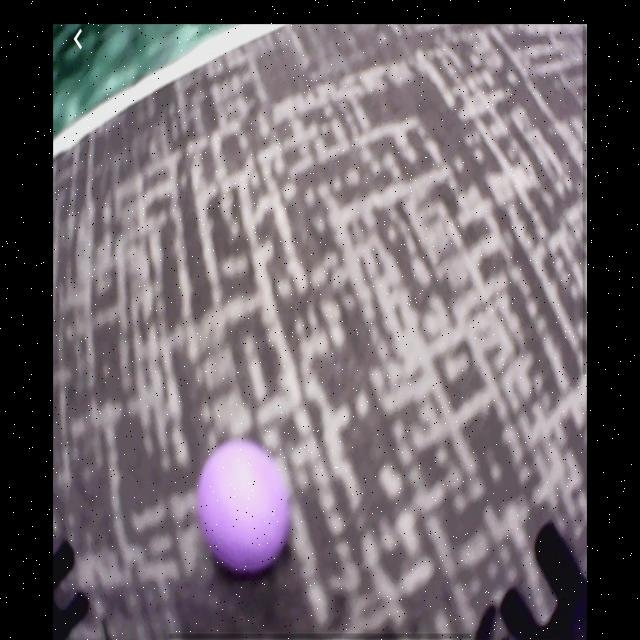ball: (197, 439, 293, 579)
